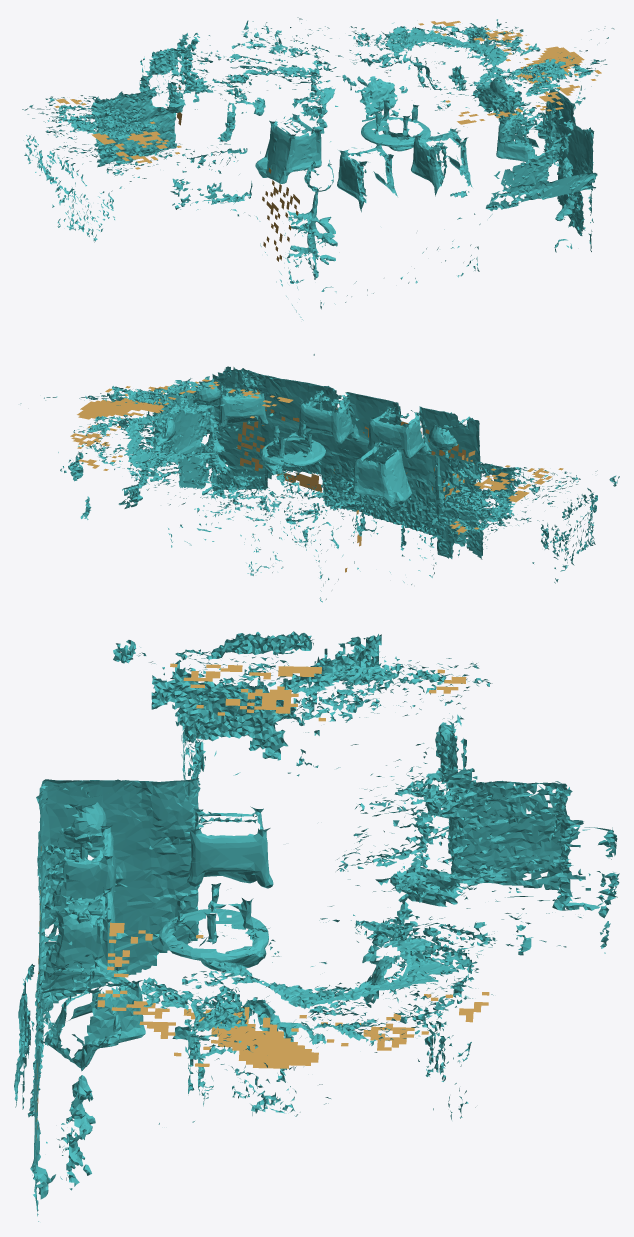
File: OBSERVED-vs-INFERRED-provenance.glb
The picture shows the model from 3 angles, top to bottom: view 1: azimuth 30°, elevation 25°; view 2: azimuth 150°, elevation 25°; view 3: azimuth 270°, elevation 25°; orthographic projection. The views are drawn at different scales.
Parts seen in each view (by area): view 1: world; view 2: world; view 3: world.
Boxes of the visible parts, x1=… form: world: x1=22, y1=17, x2=614, y2=320; world: x1=20, y1=354, x2=619, y2=602; world: x1=14, y1=631, x2=619, y2=1221.
Size of the model in its own units: 10.15 by 3.27 by 5.86.
